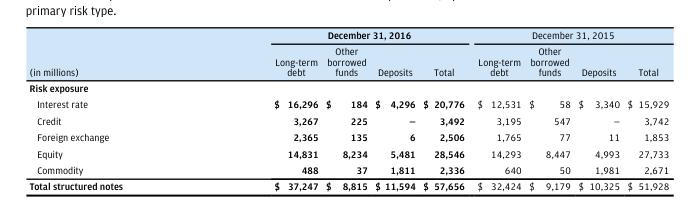table: (28, 29, 668, 191)
table column: (28, 29, 197, 191), (197, 29, 321, 191), (470, 29, 524, 191), (418, 29, 470, 191), (321, 29, 370, 191), (524, 29, 573, 191), (573, 29, 622, 191), (370, 29, 418, 191), (622, 29, 668, 191)
table column header: (28, 29, 668, 79)
table projected row header: (28, 79, 668, 95)
table row: (28, 42, 668, 79), (28, 95, 668, 112), (28, 128, 668, 145), (28, 79, 668, 95), (28, 112, 668, 128), (28, 145, 668, 161), (28, 161, 668, 177), (28, 177, 668, 191), (28, 29, 668, 42)
table spanning cell: (28, 29, 197, 79), (197, 29, 470, 42), (470, 29, 668, 42)
